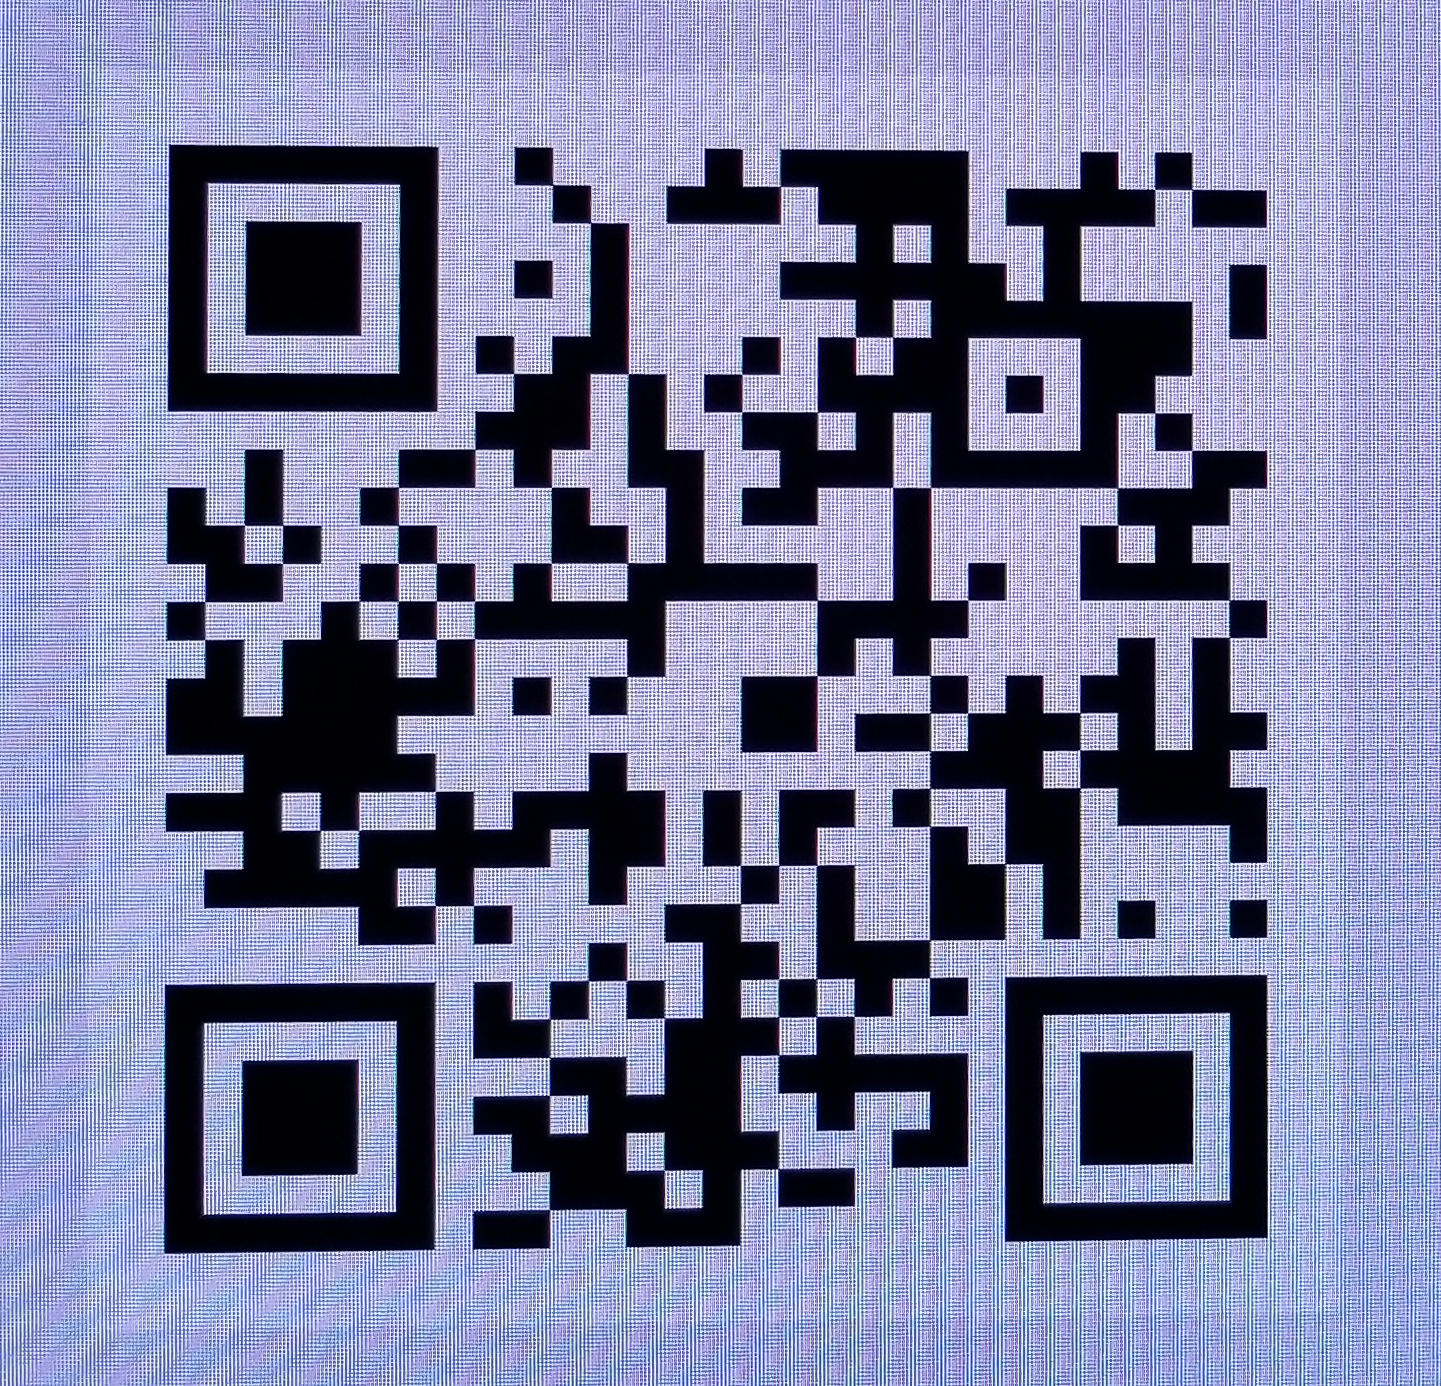QR_CODE: (103, 82, 1337, 1307)
